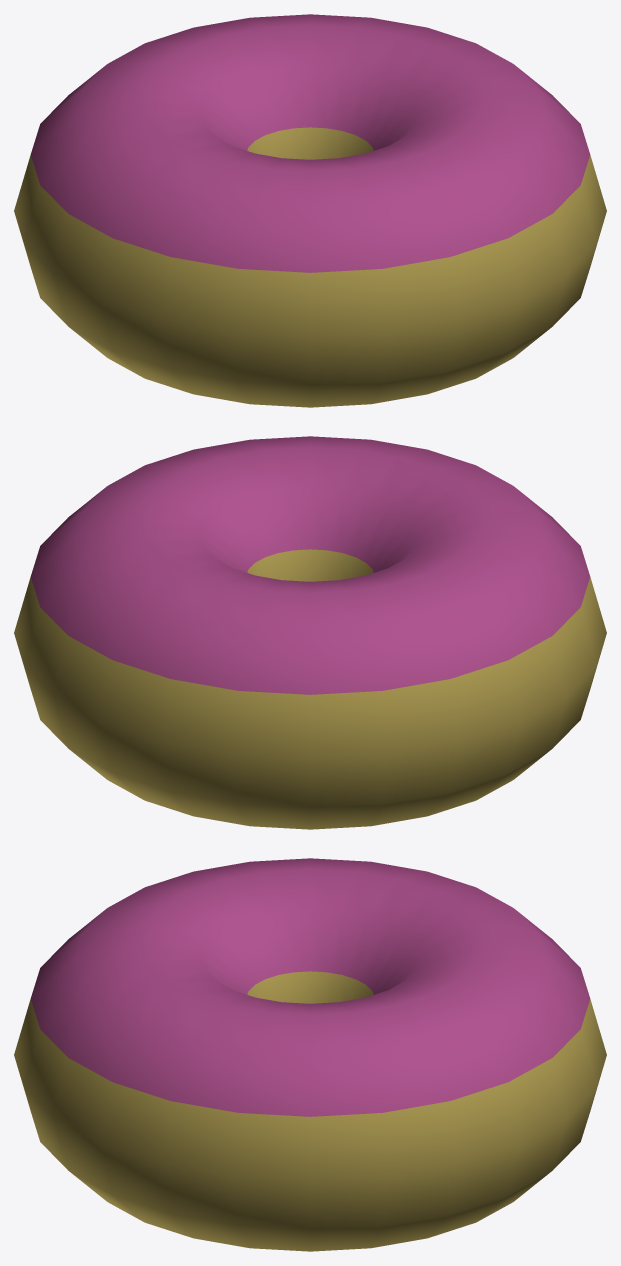
Rendered from Donut.FBX.
3 renders of one model, top to bottom at view 1: azimuth 30°, elevation 25°; view 2: azimuth 150°, elevation 25°; view 3: azimuth 270°, elevation 25°, orthographic.
Parts seen in each view (by area): view 1: Torus001; view 2: Torus001; view 3: Torus001.
Part boxes in pixels (x1,y1,x2,y2): Torus001: [14, 14, 606, 407]; Torus001: [14, 436, 606, 829]; Torus001: [14, 858, 606, 1251].
Bounding box in the file's own units: 48.88 × 48.88 × 20.51.
